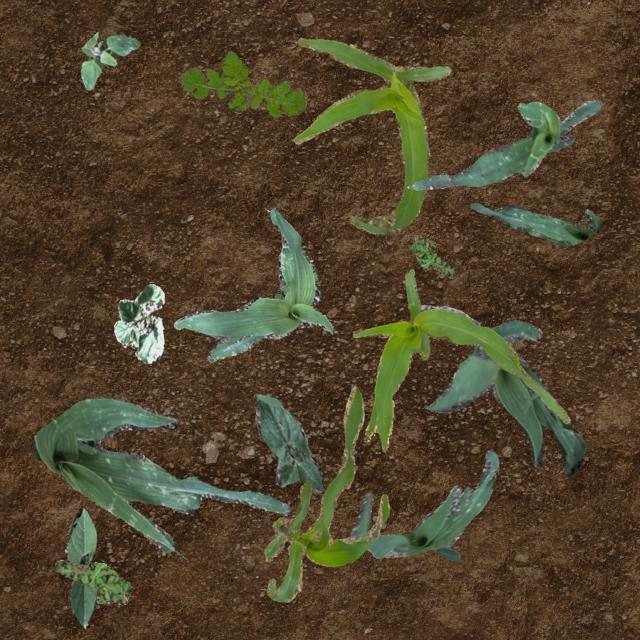crop: (31, 396, 290, 552), (352, 268, 570, 452), (290, 36, 450, 234), (420, 304, 584, 474), (262, 386, 388, 600), (172, 208, 332, 362), (412, 100, 600, 190), (348, 450, 498, 560), (254, 394, 324, 492), (470, 202, 600, 244), (112, 282, 164, 362), (64, 507, 98, 628)
weed: (178, 50, 306, 116), (54, 558, 132, 604), (80, 32, 140, 88), (408, 236, 453, 276)
